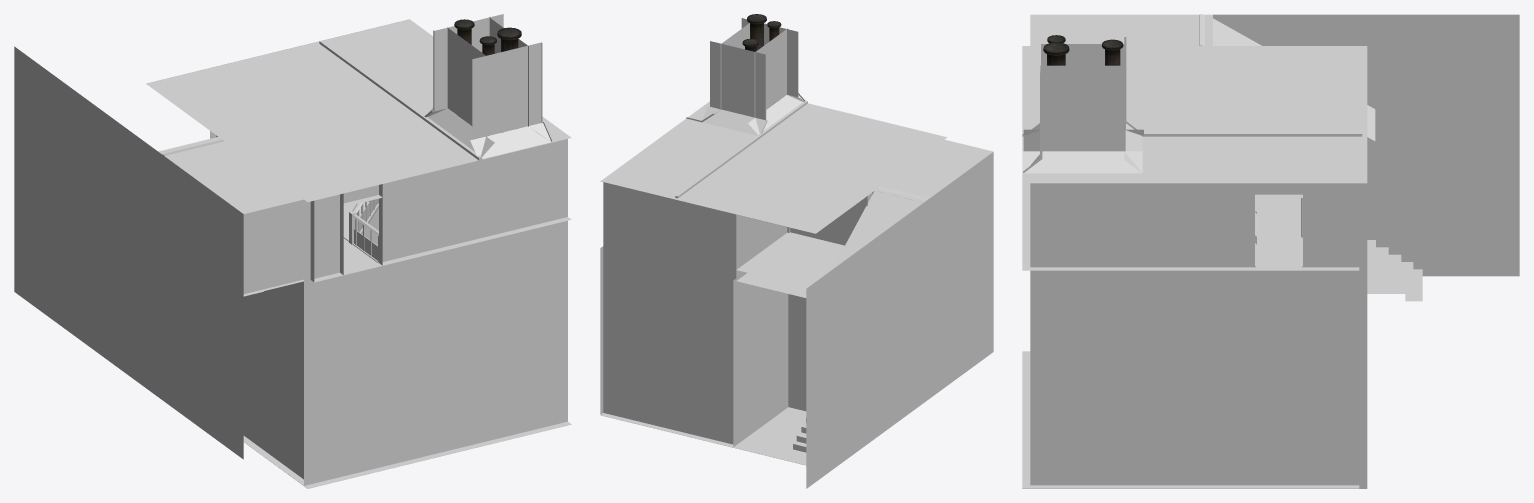
Rendered from room2C_Hcz2.fbx.
3 renders of one model, left to right at view 1: azimuth 30°, elevation 25°; view 2: azimuth 150°, elevation 25°; view 3: azimuth 270°, elevation 25°, orthographic. The views are drawn at different scales.
Visible parts, largest first — view 1: room2C_Hcz2; view 2: room2C_Hcz2; view 3: room2C_Hcz2.
Boxes of the visible parts, x1=… form: room2C_Hcz2: x1=14, y1=14, x2=571, y2=488; room2C_Hcz2: x1=600, y1=14, x2=993, y2=488; room2C_Hcz2: x1=1022, y1=14, x2=1519, y2=488.
Bounding box in the file's own units: 15.92 × 18.36 × 19.84.
